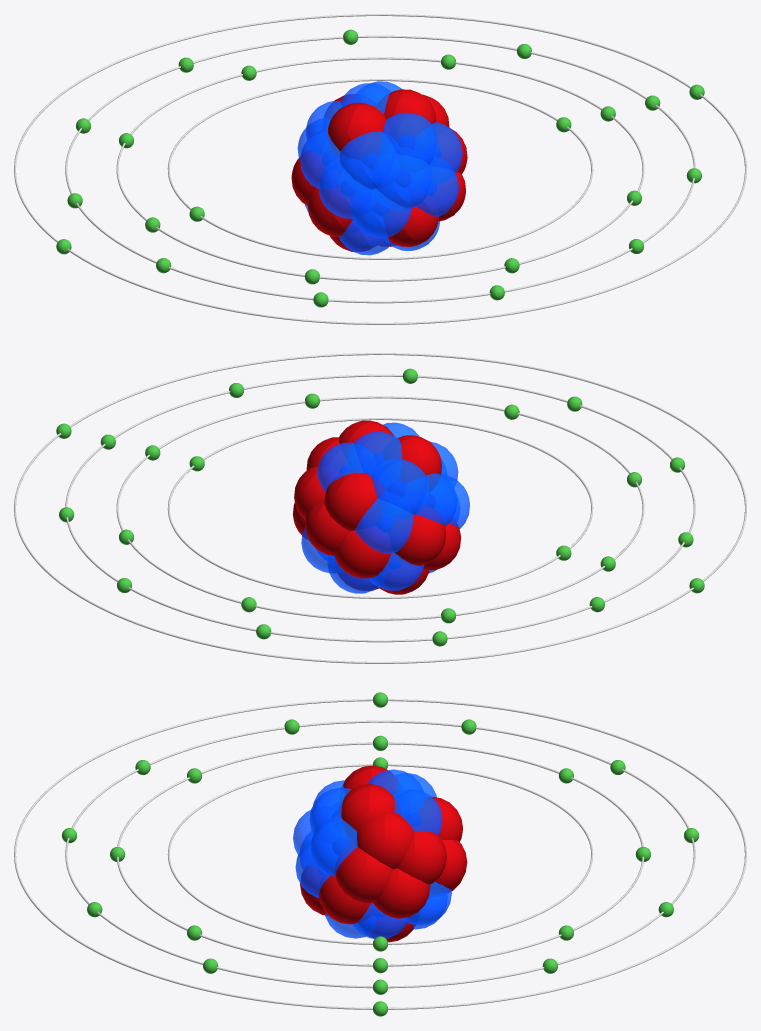
Rendered from element_023_vanadium.glb.
The picture shows the model from 3 angles, top to bottom: view 1: azimuth 30°, elevation 25°; view 2: azimuth 150°, elevation 25°; view 3: azimuth 270°, elevation 25°; orthographic projection.
Visible parts, largest first — view 1: element_023_vanadium_nucleus, vanadium_orbital_1_13; view 2: element_023_vanadium_nucleus, vanadium_orbital_1_13; view 3: element_023_vanadium_nucleus, vanadium_orbital_1_13.
Part boxes in pixels (x1,y1,x2,y2): element_023_vanadium_nucleus: (291,81,467,255); vanadium_orbital_1_13: (14,14,746,324); element_023_vanadium_nucleus: (292,420,469,594); vanadium_orbital_1_13: (14,353,746,663); element_023_vanadium_nucleus: (293,765,467,942); vanadium_orbital_1_13: (14,692,746,1016).
Size of what is drawn, in the model's own units: 0.6224 by 0.1471 by 0.6113.
